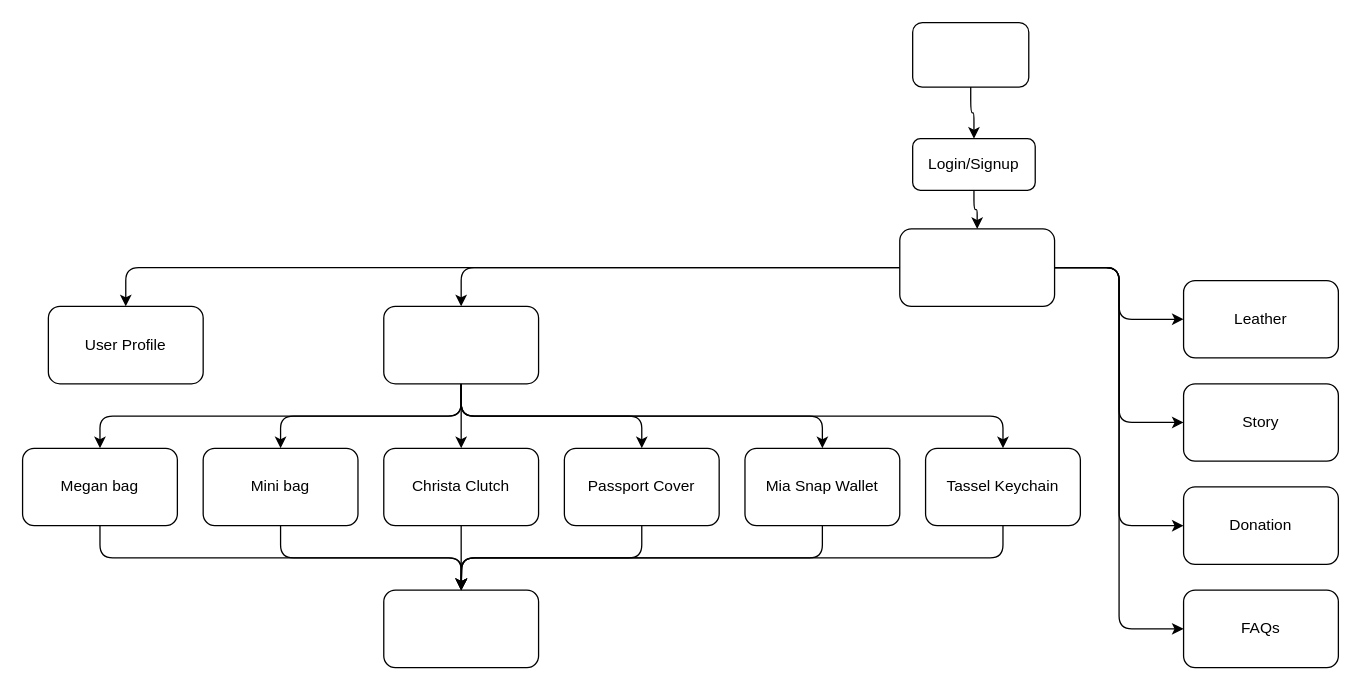
This 1361x690 diagram has some shape labels left out. The shapes that lost their labels are listed below. From the top down, each one's centre as x and y in pixels, then its label:
At (970,54): "App".
At (976,267): "Home".
At (460,344): "Shop".
At (460,628): "Cart".
